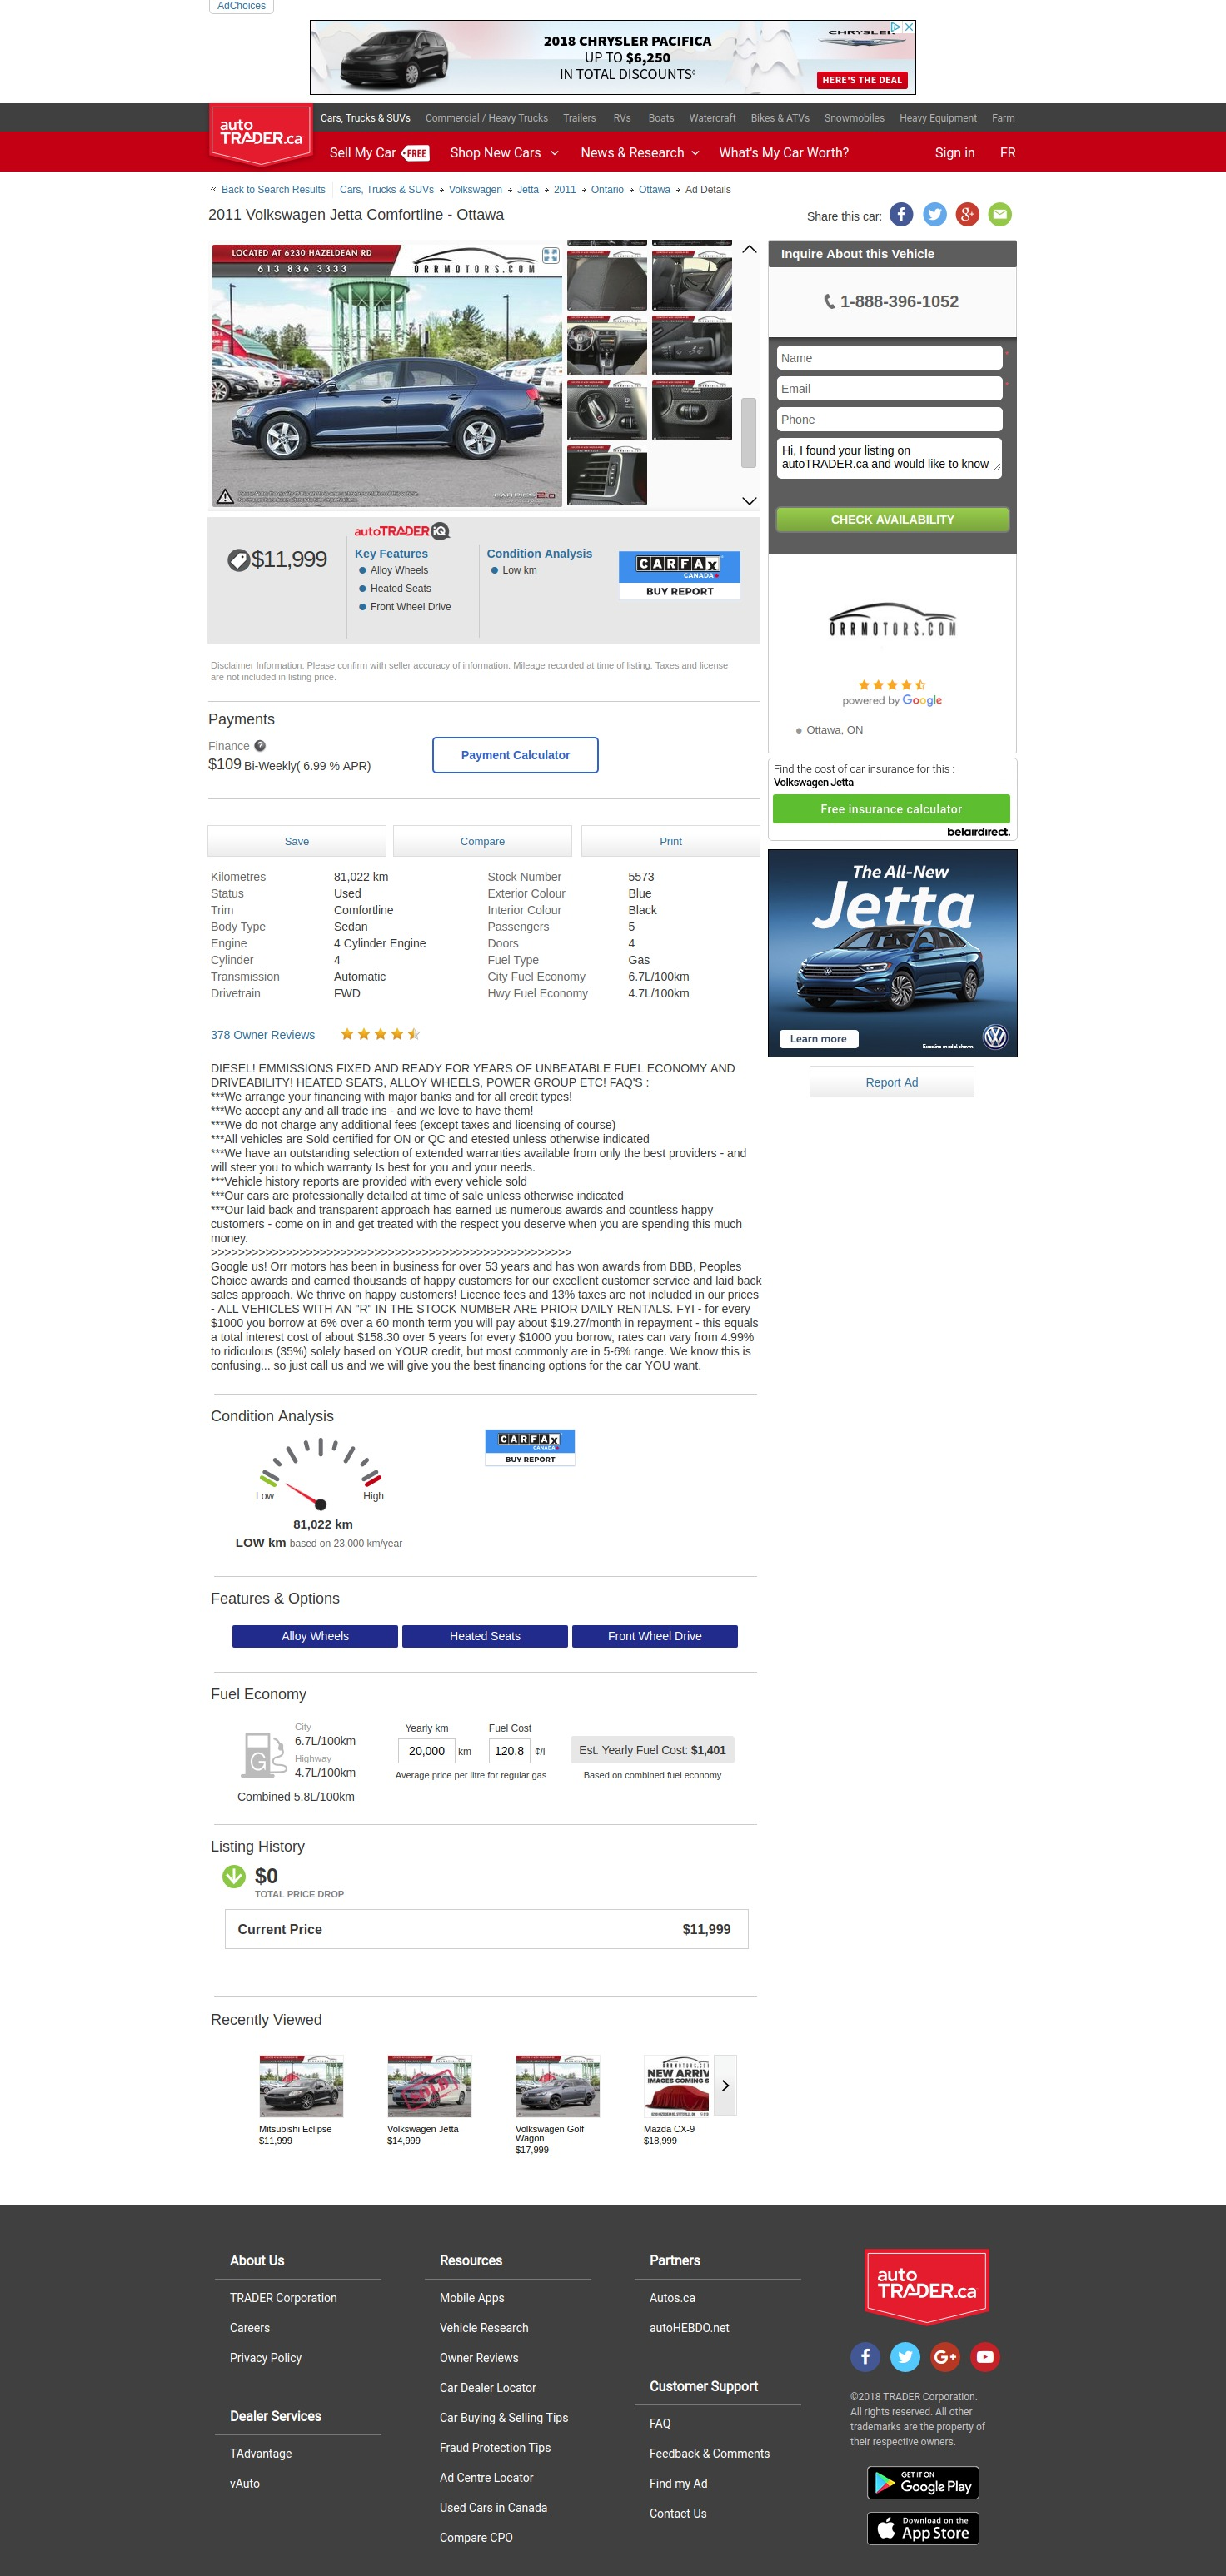car: (740, 493, 761, 511)
